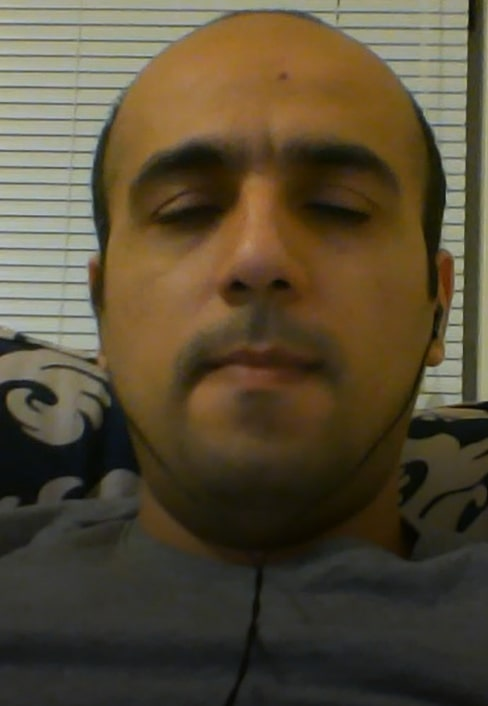Sleeping: (130, 133, 396, 266)
